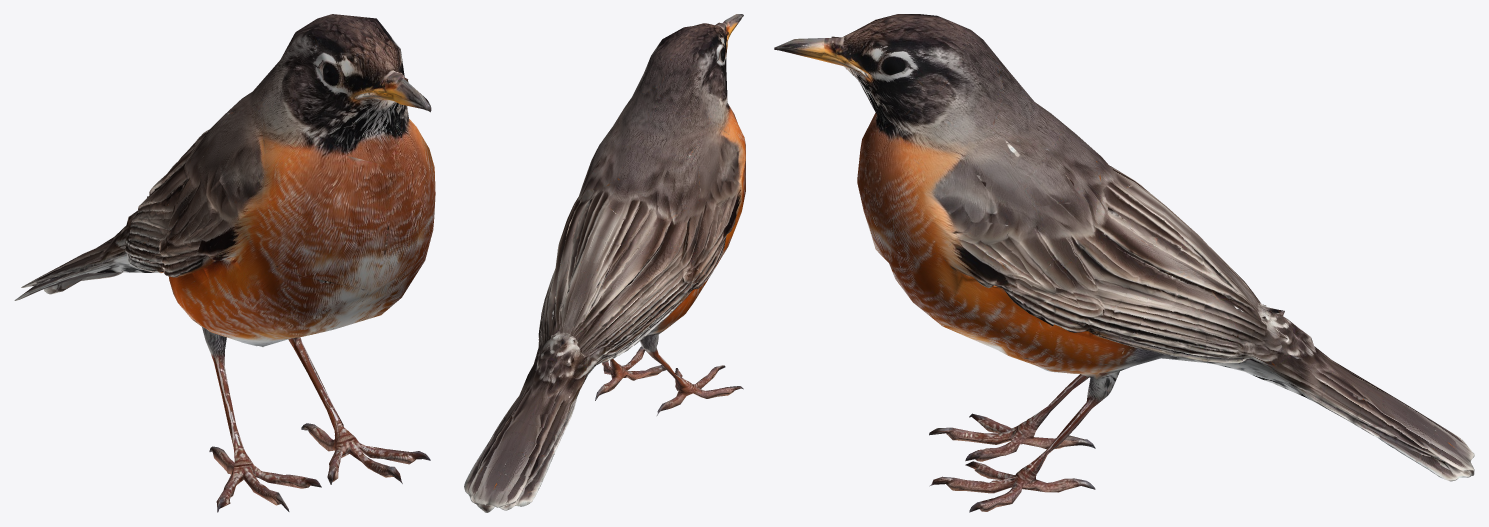
File: songbird.glb
3 views of the same model, side by side, from view 1: azimuth 30°, elevation 25°; view 2: azimuth 150°, elevation 25°; view 3: azimuth 270°, elevation 25° (orthographic). The views are drawn at different scales.
Parts seen in each view (by area): view 1: MeshyFit; view 2: MeshyFit; view 3: MeshyFit.
Part boxes in pixels (x1=…): MeshyFit: x1=14, y1=14, x2=435, y2=512; MeshyFit: x1=464, y1=14, x2=745, y2=512; MeshyFit: x1=774, y1=14, x2=1474, y2=512.
Bounding box in the file's own units: 0.054 × 0.12 × 0.1673.
Materials: 1 (1 with a texture image).
